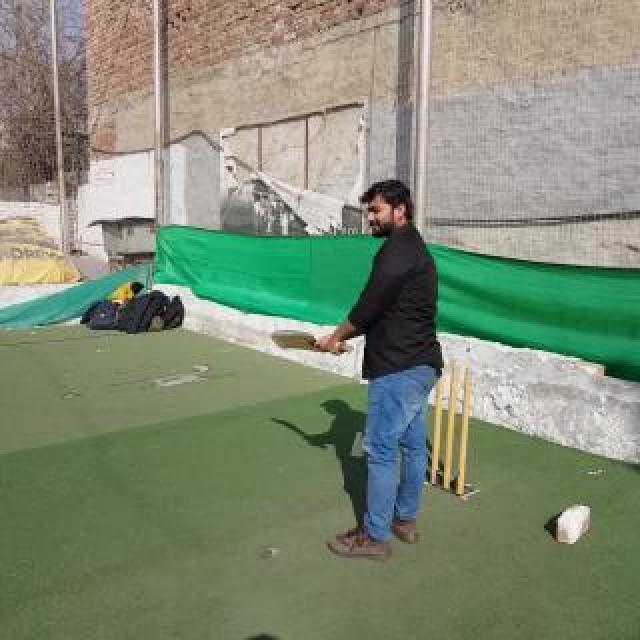bat: (270, 329, 354, 353)
